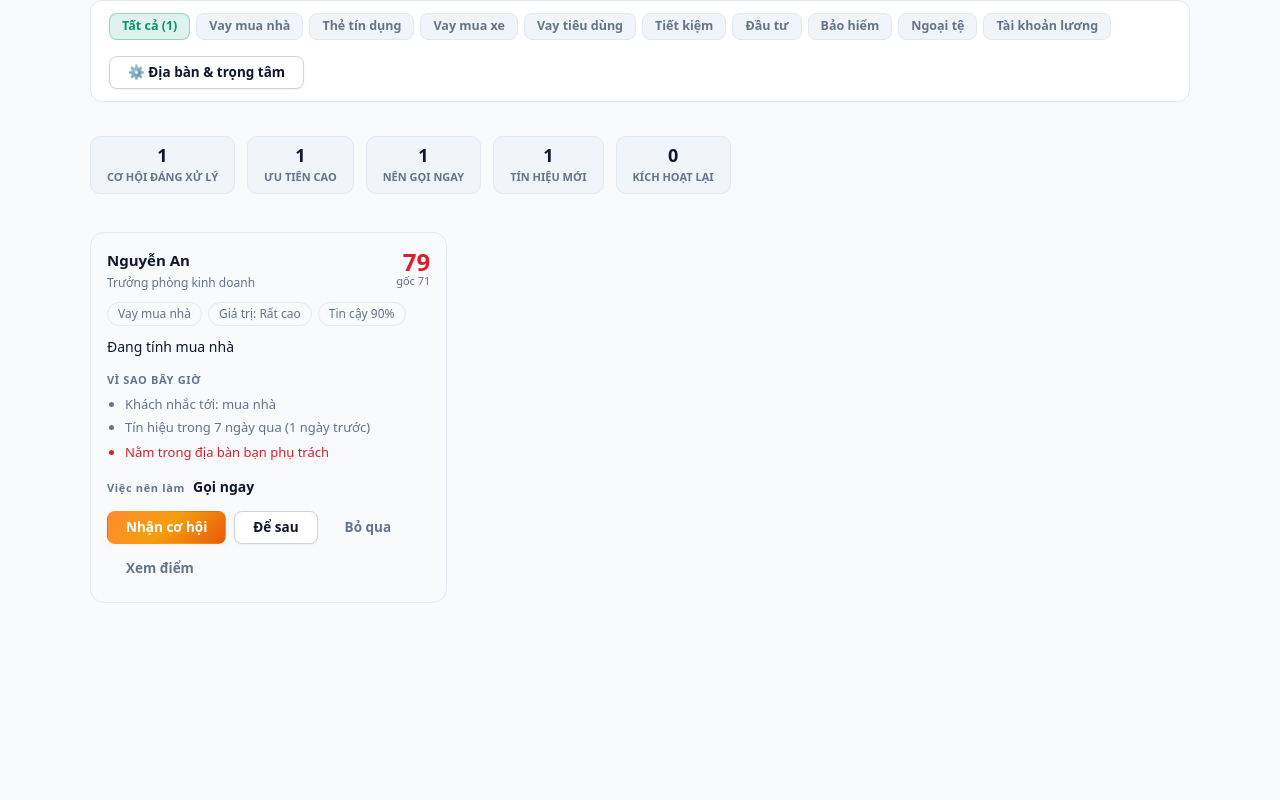
Scenario: Cơ hội hôm nay › gợi ý điền sẵn khai báo từ việc RM đã làm
What coordinates should you click on to do the following:
click the button "⚙️ Địa bàn & trọng tâm"
I would click on:
 (207, 72)
Its box is [109,56,304,89].
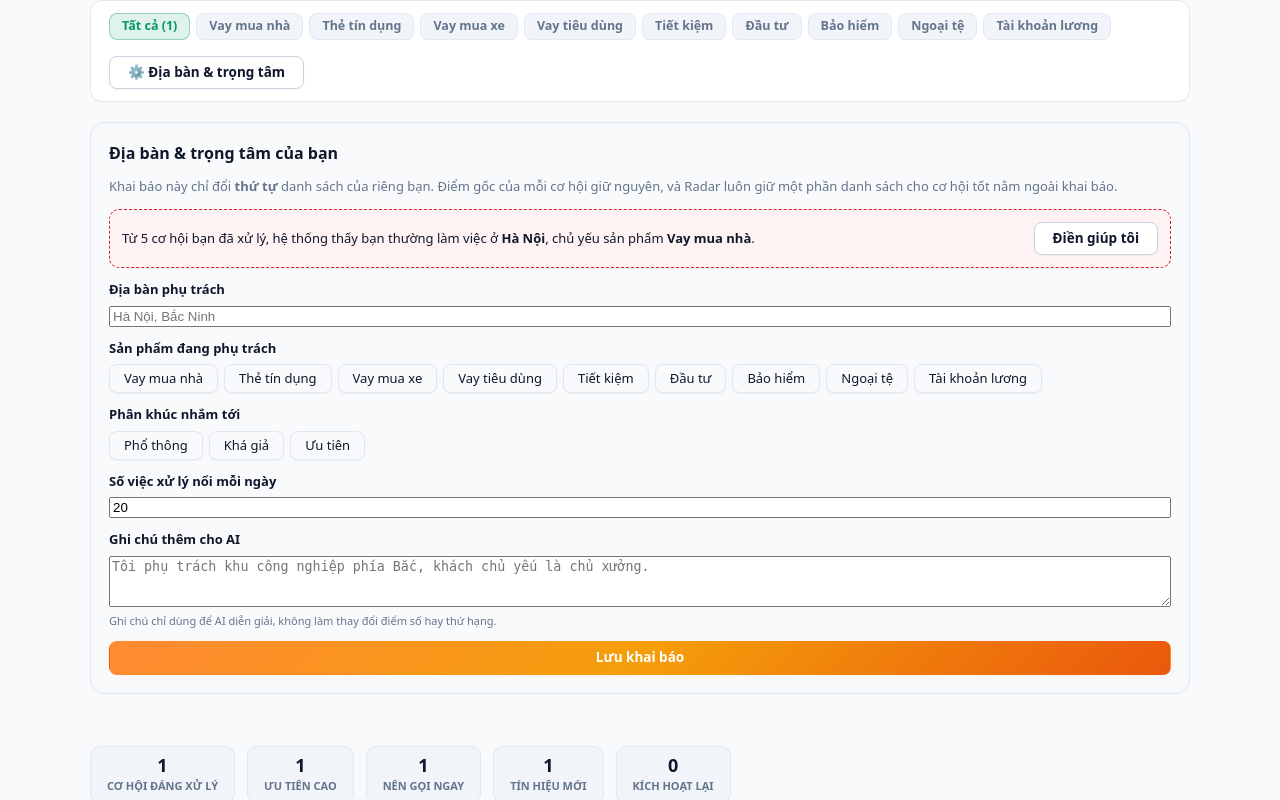
Expected: the text "hệ thống thấy bạn" is shown, [148,228,498,246]
Expected: the button "Điền giúp tôi" is shown, [1034,222,1158,255]
